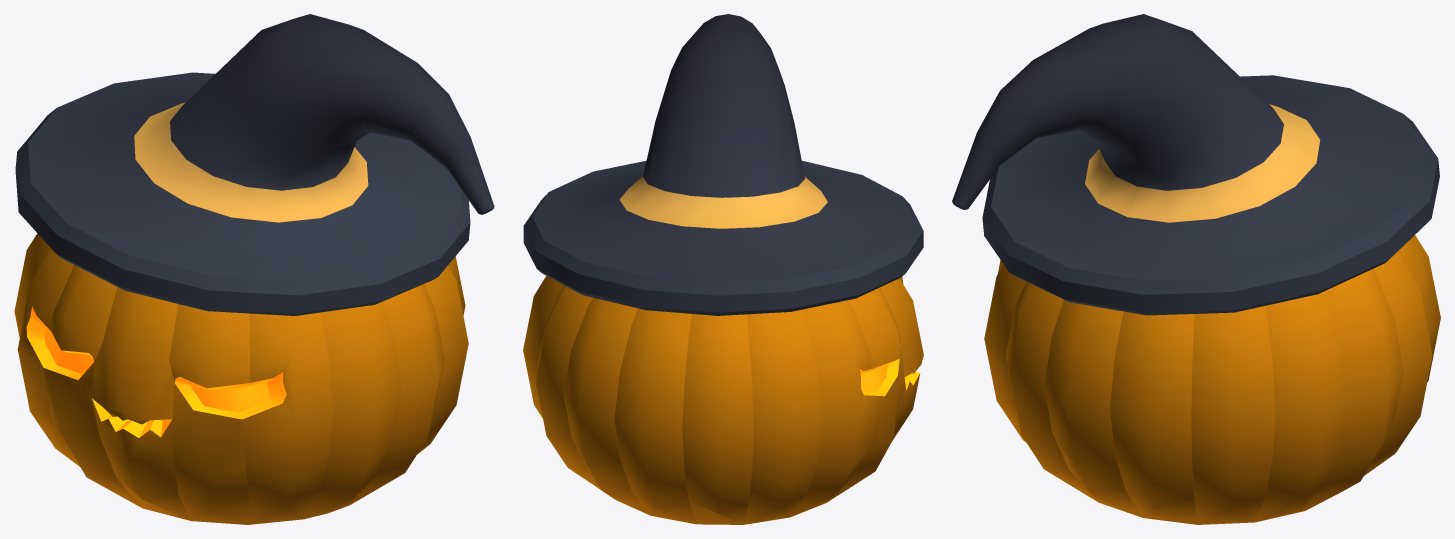
Rendered from MENUpumpkinlit.fbx.
The picture shows the model from 3 angles, left to right: view 1: azimuth 30°, elevation 25°; view 2: azimuth 150°, elevation 25°; view 3: azimuth 270°, elevation 25°; orthographic projection. The views are drawn at different scales.
Parts seen in each view (by area): view 1: Pumpkin_1.001; view 2: Pumpkin_1.001; view 3: Pumpkin_1.001.
Boxes of the visible parts, x1,y1,x2,y2 form: Pumpkin_1.001: (14,14,494,524); Pumpkin_1.001: (523,14,923,524); Pumpkin_1.001: (952,14,1440,524).
Bounding box in the file's own units: 90.14 × 103 × 96.78.
Materials: 2 (1 with a texture image).
